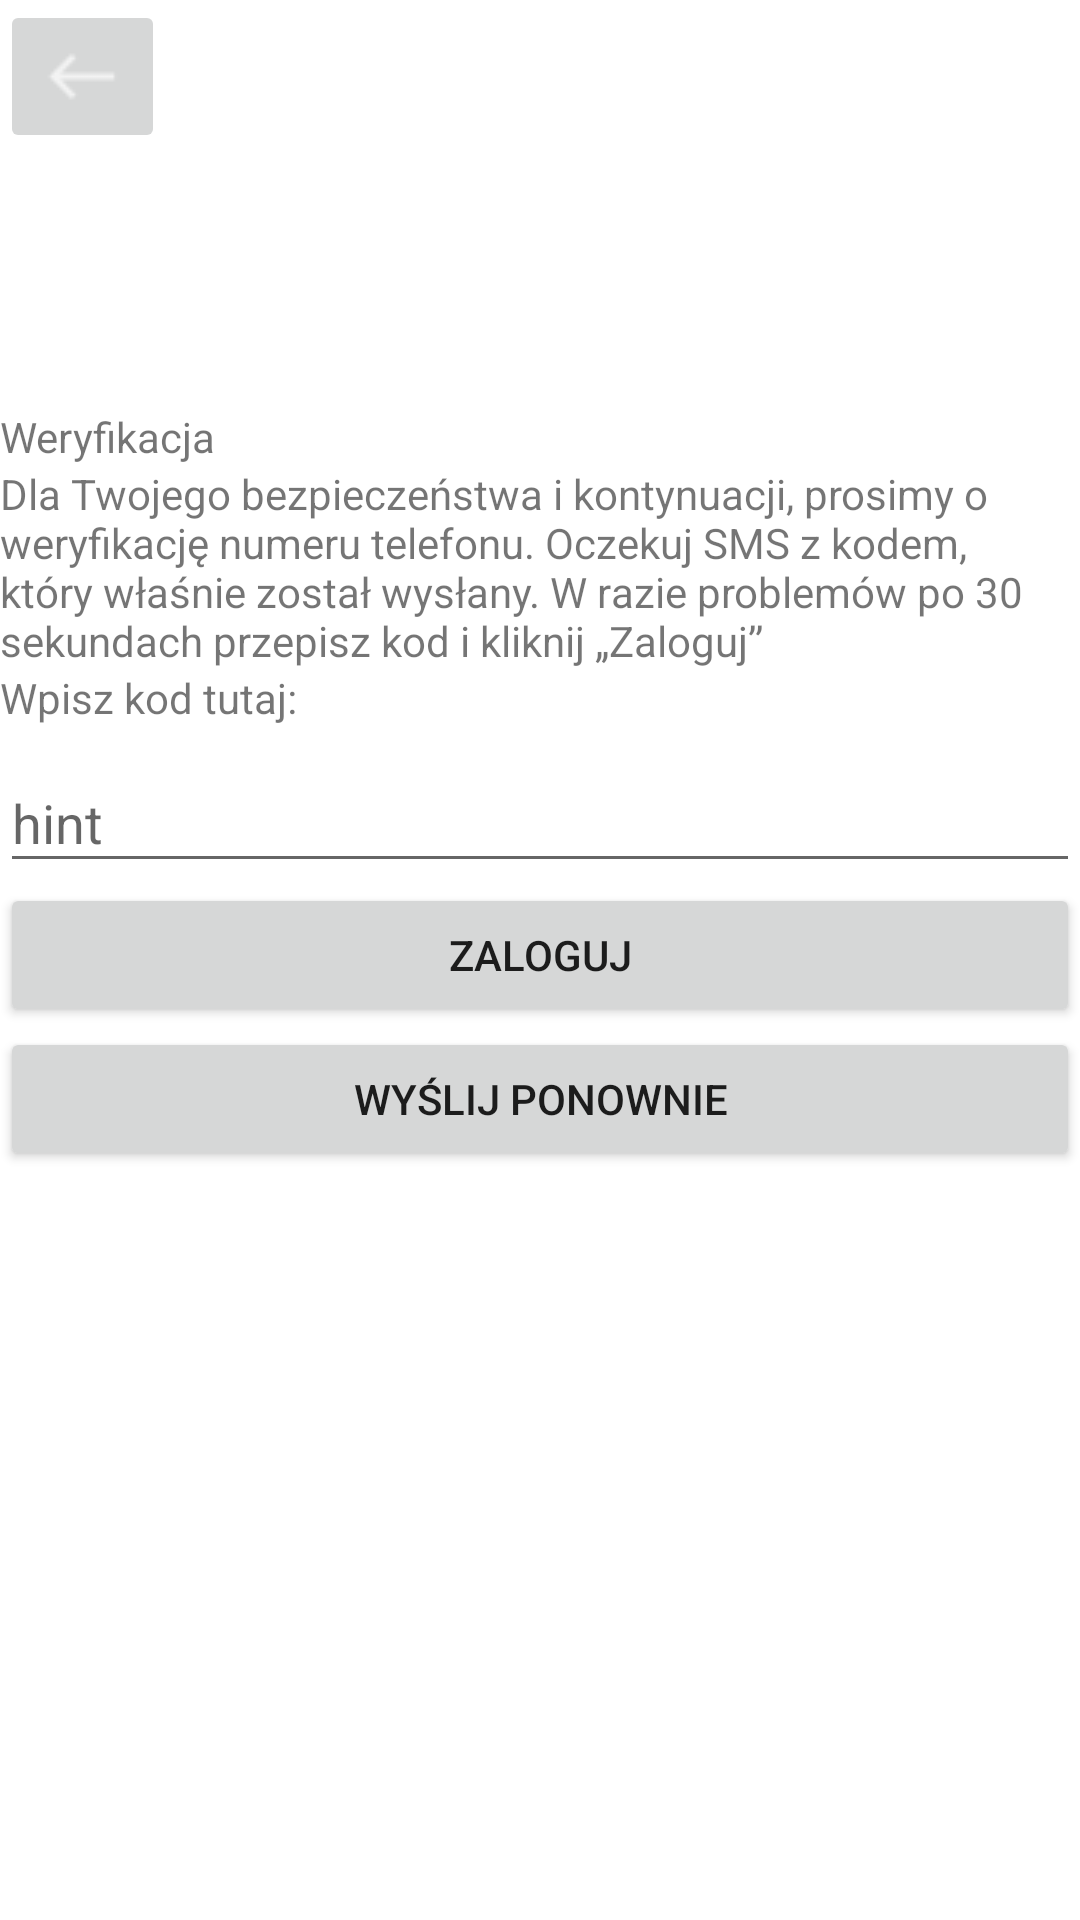

Locate icon controls on the screen. Image size 1080×1920, boxes as (x1, y1, x2, y2).
arrow: (12, 18, 153, 135)
